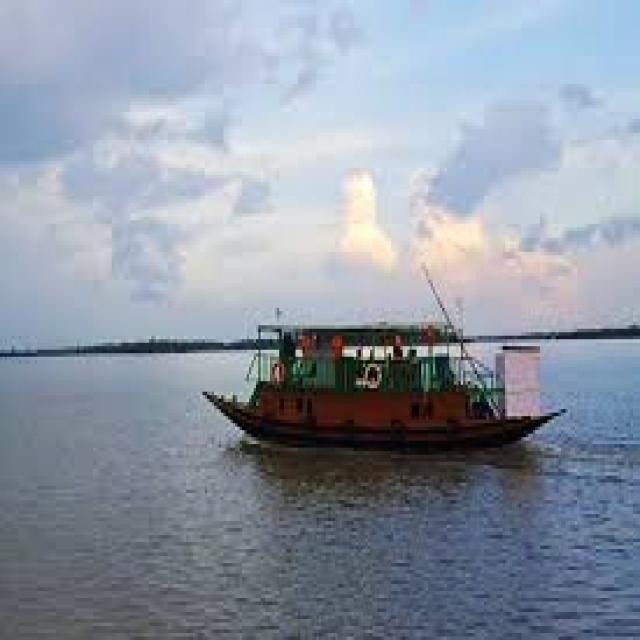fishing boat: (210, 282, 562, 455)
